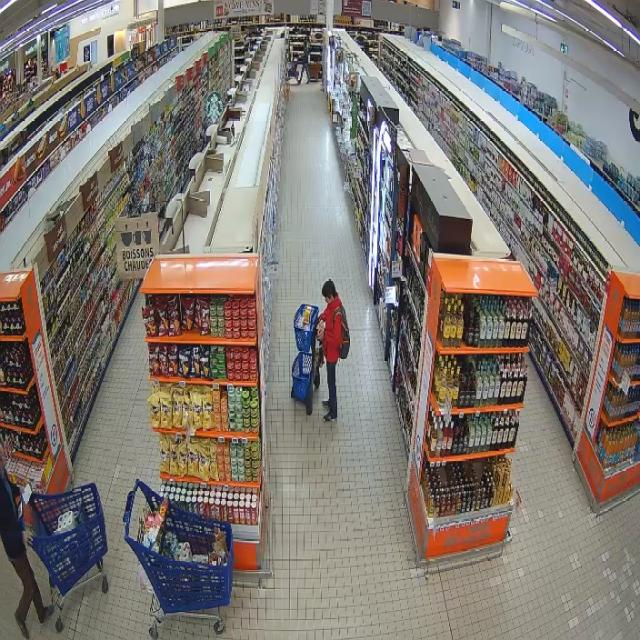article: (316, 320, 324, 330)
bags: (333, 306, 349, 358)
hands: (24, 528, 33, 546), (318, 331, 324, 341), (319, 319, 325, 328), (20, 486, 25, 496)
person: (0, 456, 54, 638), (319, 279, 342, 422)
